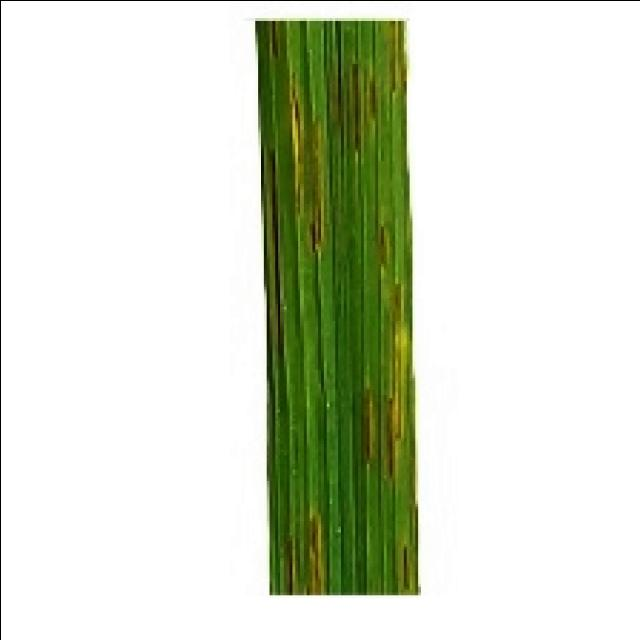Unhealthy: (283, 66, 325, 256), (380, 280, 413, 482), (257, 139, 281, 357), (348, 57, 380, 154), (306, 506, 329, 595), (385, 17, 408, 99), (392, 532, 418, 596), (360, 384, 378, 465), (280, 532, 294, 596), (374, 222, 390, 271), (267, 18, 281, 68)
